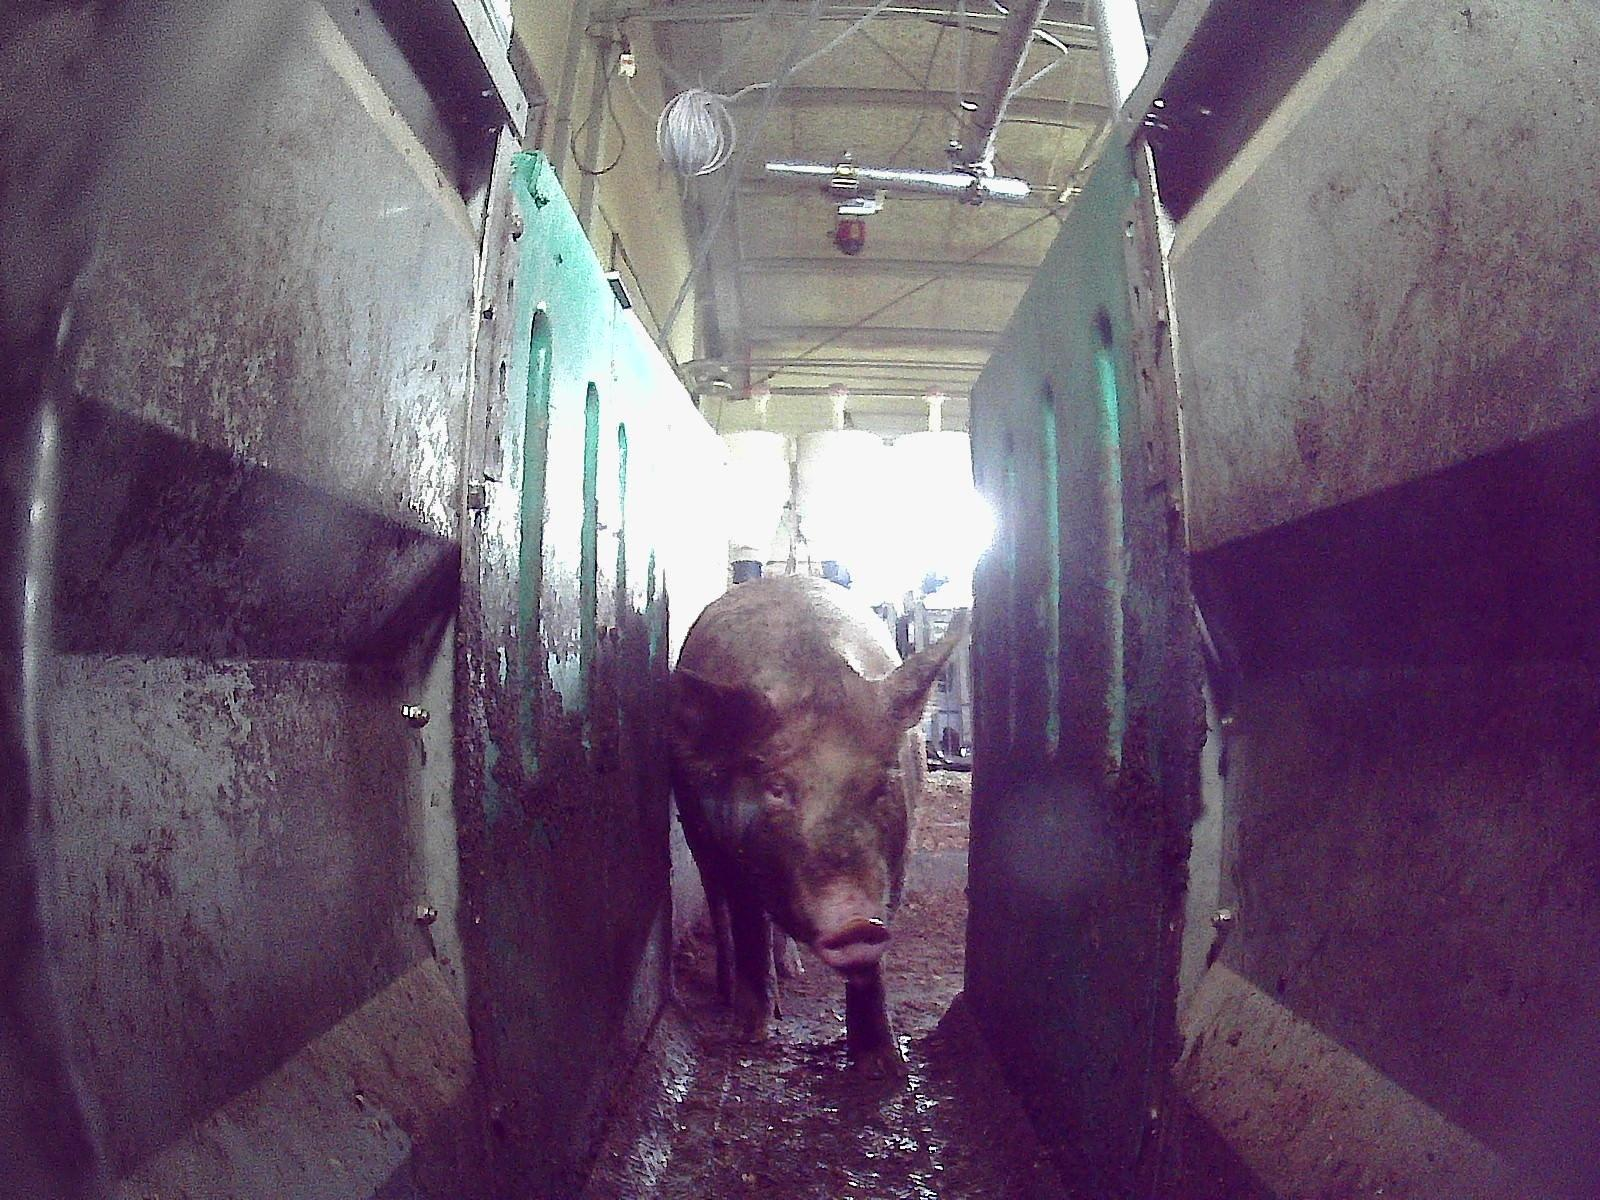Face: (713, 696, 904, 962)
